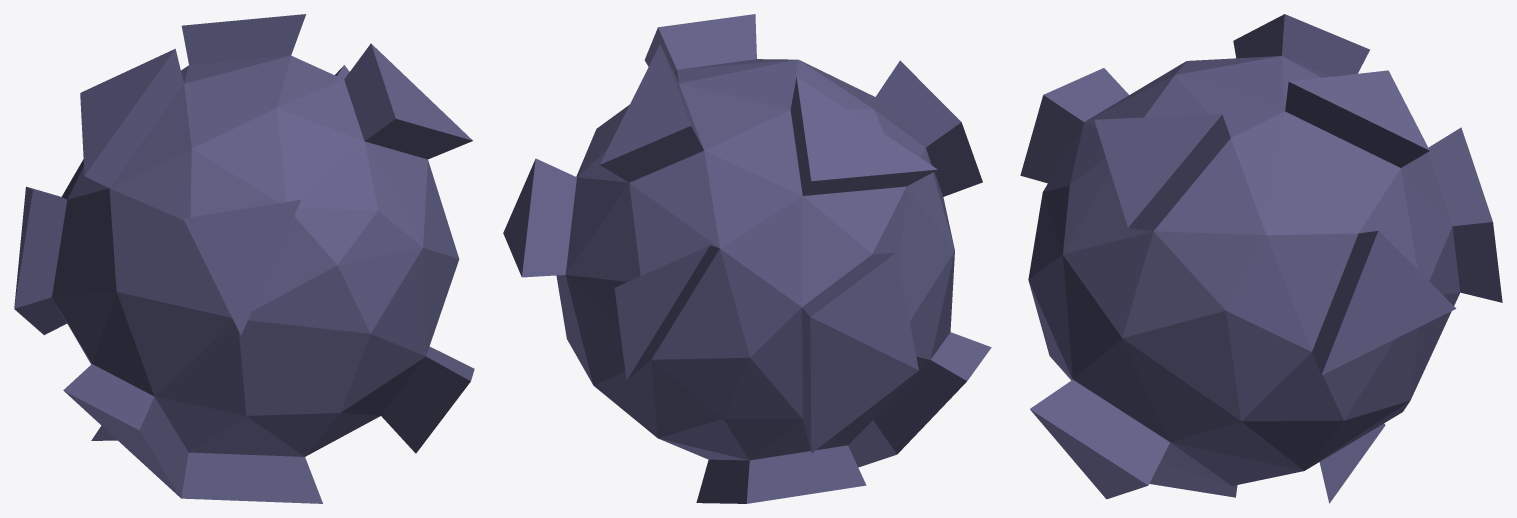
Rendered from wandering_planet.fbx.
3 views of the same model, side by side, from view 1: azimuth 30°, elevation 25°; view 2: azimuth 150°, elevation 25°; view 3: azimuth 270°, elevation 25° (orthographic). The views are drawn at different scales.
Parts seen in each view (by area): view 1: wandering_planet; view 2: wandering_planet; view 3: wandering_planet.
Part boxes in pixels (box(x1,y1,x2,y2)): wandering_planet: box(14, 14, 474, 503); wandering_planet: box(503, 14, 991, 503); wandering_planet: box(1020, 14, 1502, 503).
Bounding box in the file's own units: 238 × 241 × 227.
